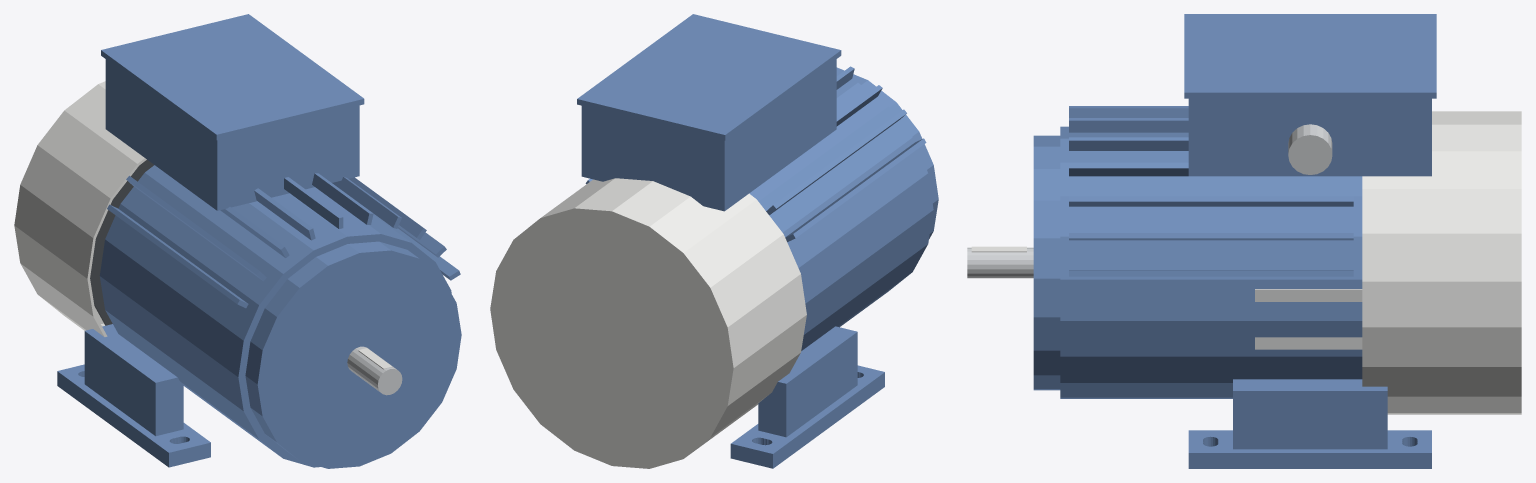
Rendered from motor-iec71-370w.glb.
The picture shows the model from 3 angles, left to right: view 1: azimuth 30°, elevation 25°; view 2: azimuth 150°, elevation 25°; view 3: azimuth 270°, elevation 25°; orthographic projection. The views are drawn at different scales.
Parts seen in each view (by area): view 1: body, fan, shaft; view 2: body; view 3: body, shaft, pwr.
Boxes of the visible parts, x1,y1,x2,y2 form: body: [14, 14, 461, 468]; fan: [90, 160, 153, 325]; shaft: [347, 346, 402, 395]; body: [490, 14, 938, 468]; body: [1033, 14, 1521, 468]; shaft: [967, 246, 1033, 278]; pwr: [1288, 124, 1332, 174].
Size of what is drawn, in the model's own units: 0.138 by 0.1755 by 0.2505.
